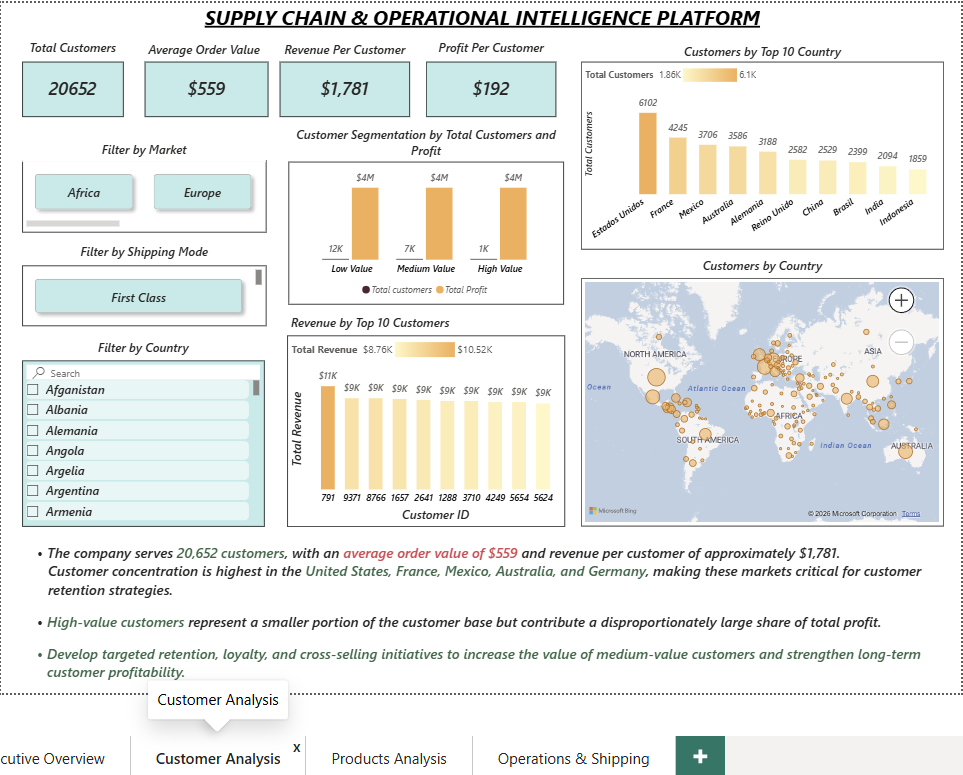

This screenshot's page, from the dashboard's own definition file:
{"tool":"powerbi","page":{"name":"Customer Analysis","canvas":[1920,1080],"ordinal":2},"visuals":[{"type":"actionButton","title":"Close Button Cover","box":[464,0,1456,1078],"z":0,"group":"g2"},{"type":"actionButton","title":"Revenue Button","box":[116,106,268,80],"z":0},{"type":"actionButton","title":"Operations & Shippings","box":[76,478,344,60],"z":0,"group":"g1"},{"type":"actionButton","title":"Close Button","box":[464,0,80,80],"z":1000,"group":"g2"},{"type":"actionButton","title":"Profit Button","box":[390.7,106,268,80],"z":1000},{"type":"actionButton","title":"Product Analysis","box":[76,389.5,344,60],"z":1000,"group":"g1"},{"type":"shape","title":"Page Navigation (Menu Bar)","box":[106,0,360,1078],"z":2000,"group":"g2"},{"type":"actionButton","title":"Customer Analysis","box":[76,301,344,60],"z":2000,"group":"g1"},{"type":"group","id":"g1","title":"Pages","box":[76,124,344,414],"z":3000,"group":"g2"},{"type":"actionButton","title":"Executive Overview","box":[76,212.5,344,60],"z":3000,"group":"g1"},{"type":"actionButton","title":"Home","box":[76,124,344,60],"z":4000,"group":"g1"},{"type":"textbox","box":[250,18,306,60],"z":5000},{"type":"image","box":[198,28,54,40],"z":6000},{"type":"slicer","fields":{"Values":["gold fact_orders_cleaned_v2.order_date.Variation.Date Hierarchy.Year"]},"box":[1517.3,106,194,80],"z":7000},{"type":"slicer","fields":{"Values":["gold fact_orders_cleaned_v2.order_date.Variation.Date Hierarchy.Month"]},"box":[1718,106,194,80],"z":8000},{"type":"slicer","fields":{"Values":["gold fact_orders_cleaned_v2.market"]},"box":[1230.7,106,280,80],"z":9000},{"type":"slicer","fields":{"Values":["gold fact_orders_cleaned_v2.shipping_mode"]},"box":[944,106,280,80],"z":10000},{"type":"slicer","fields":{"Values":["gold fact_orders_cleaned_v2.order_country"]},"box":[665.3,106,272,80],"z":11000},{"type":"clusteredColumnChart","title":"Customer Segmentation by Total Customers and Profit","fields":{"Category":["gold vw_customer_segmentation.customer_segment"],"Y":["Sum(gold vw_customer_segmentation.customers)","Measure's Table.Total Profit"]},"box":[124,376,542,384],"z":12000},{"type":"map","fields":{"Size":["Measure's Table.Total Customers"],"Category":["gold fact_orders_cleaned_v2.order_country"]},"box":[1240,376,666,686],"z":13000},{"type":"clusteredBarChart","title":"Customers by Top 10 Countries","fields":{"Category":["gold fact_orders_cleaned_v2.order_country"],"Y":["Measure's Table.Total Customers"]},"box":[692,376,528,384],"z":14000},{"type":"waterfallChart","title":"Revenue by Top 10 Customers","fields":{"Category":["gold dim_customers.customer_id"],"Y":["Measure's Table.Total Revenue"]},"box":[124,784,1096,278],"z":15000},{"type":"cardVisual","fields":{"Data":["Measure's Table.Total Customers"]},"box":[106,186,362,190],"z":16000},{"type":"cardVisual","fields":{"Data":["Measure's Table.Revenue Per Customer"]},"box":[469,186,362,190],"z":17000},{"type":"cardVisual","fields":{"Data":["Measure's Table.Average Order Value"]},"box":[832,186,362,190],"z":18000},{"type":"cardVisual","fields":{"Data":["Measure's Table.Profit Per Customer"]},"box":[1195,186,362,190],"z":19000},{"type":"cardVisual","fields":{"Data":["Measure's Table.Discount Per Customer"]},"box":[1558,186,362,190],"z":20000},{"type":"group","id":"g2","title":"Menu Objects","box":[76,0,1844,1078],"z":23250},{"type":"actionButton","title":"Menu Button","box":[15,7,60,60],"z":23500}]}

Visuals, with their boxes on the page's 1920x1080 design canvas (x1, y1, x2, y2). These are canvas units, not pixel positions in the 963x775 screenshot, which may show the page scaled, cropped or inside an application window:
"Close Button Cover" actionButton: bbox=(464, 0, 1920, 1078)
"Revenue Button" actionButton: bbox=(116, 106, 384, 186)
"Operations & Shippings" actionButton: bbox=(76, 478, 420, 538)
"Close Button" actionButton: bbox=(464, 0, 544, 80)
"Profit Button" actionButton: bbox=(391, 106, 659, 186)
"Product Analysis" actionButton: bbox=(76, 390, 420, 450)
"Page Navigation (Menu Bar)" shape: bbox=(106, 0, 466, 1078)
"Customer Analysis" actionButton: bbox=(76, 301, 420, 361)
"Pages" group: bbox=(76, 124, 420, 538)
"Executive Overview" actionButton: bbox=(76, 212, 420, 272)
"Home" actionButton: bbox=(76, 124, 420, 184)
textbox: bbox=(250, 18, 556, 78)
image: bbox=(198, 28, 252, 68)
slicer - gold fact_orders_cleaned_v2.order_date.Variation.Date Hierarchy.Year: bbox=(1517, 106, 1711, 186)
slicer - gold fact_orders_cleaned_v2.order_date.Variation.Date Hierarchy.Month: bbox=(1718, 106, 1912, 186)
slicer - gold fact_orders_cleaned_v2.market: bbox=(1231, 106, 1511, 186)
slicer - gold fact_orders_cleaned_v2.shipping_mode: bbox=(944, 106, 1224, 186)
slicer - gold fact_orders_cleaned_v2.order_country: bbox=(665, 106, 937, 186)
"Customer Segmentation by Total Customers and Profit" clusteredColumnChart: bbox=(124, 376, 666, 760)
map - Measure's Table.Total Customers x gold fact_orders_cleaned_v2.order_country: bbox=(1240, 376, 1906, 1062)
"Customers by Top 10 Countries" clusteredBarChart: bbox=(692, 376, 1220, 760)
"Revenue by Top 10 Customers" waterfallChart: bbox=(124, 784, 1220, 1062)
cardVisual - Measure's Table.Total Customers: bbox=(106, 186, 468, 376)
cardVisual - Measure's Table.Revenue Per Customer: bbox=(469, 186, 831, 376)
cardVisual - Measure's Table.Average Order Value: bbox=(832, 186, 1194, 376)
cardVisual - Measure's Table.Profit Per Customer: bbox=(1195, 186, 1557, 376)
cardVisual - Measure's Table.Discount Per Customer: bbox=(1558, 186, 1920, 376)
"Menu Objects" group: bbox=(76, 0, 1920, 1078)
"Menu Button" actionButton: bbox=(15, 7, 75, 67)
